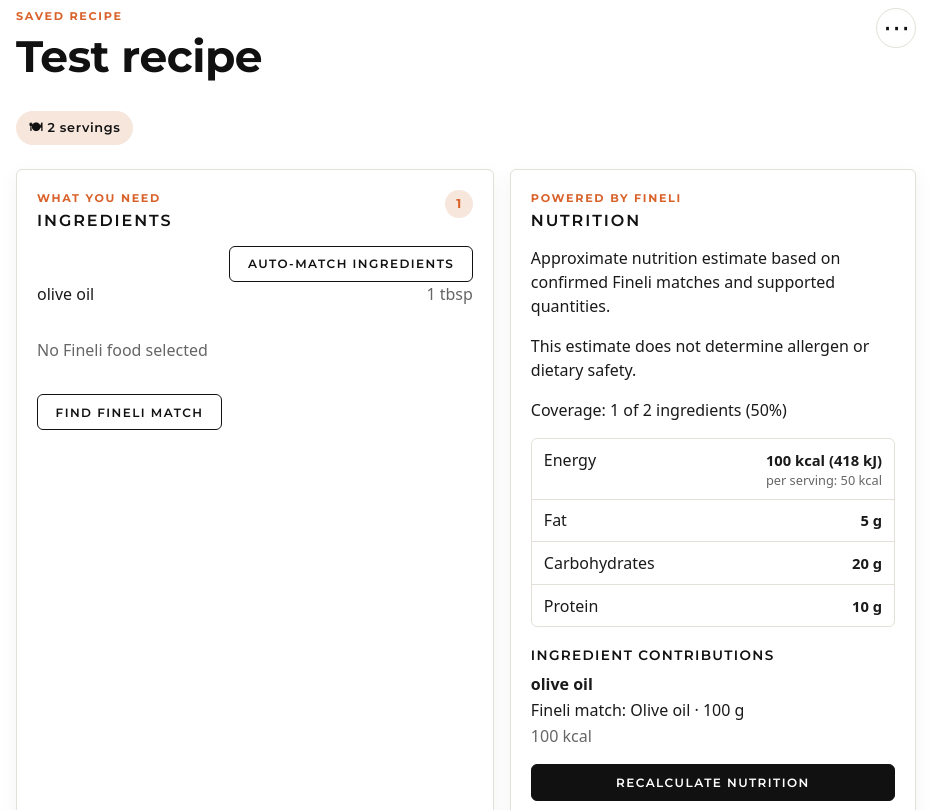
RecipeDetailPage ingredient matching › converts kilojoule ingredient unit to kcal and prioritizes macro previews on suggestions
Check: the text "100 kcal" is shown, box [531,726,592,748]
Click the button "Find Fineli match" at point(130, 412), box [37,394,222,430]
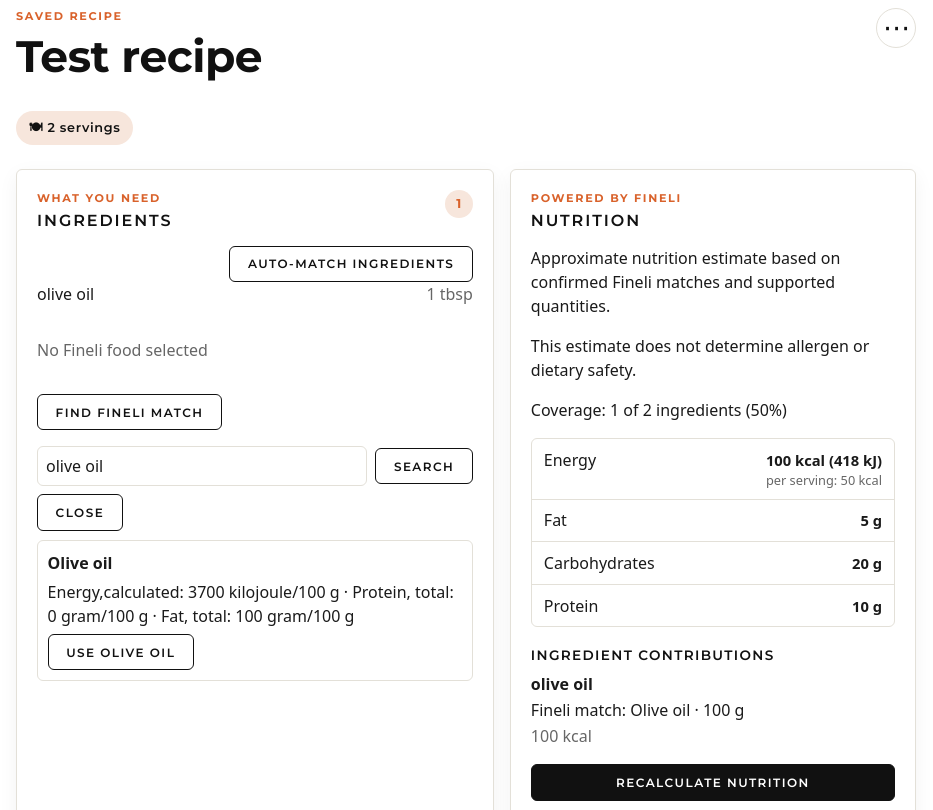
Check: the text "Energy,calculated: 3700 kilojoule/100 g" is shown, box [48,582,454,628]
